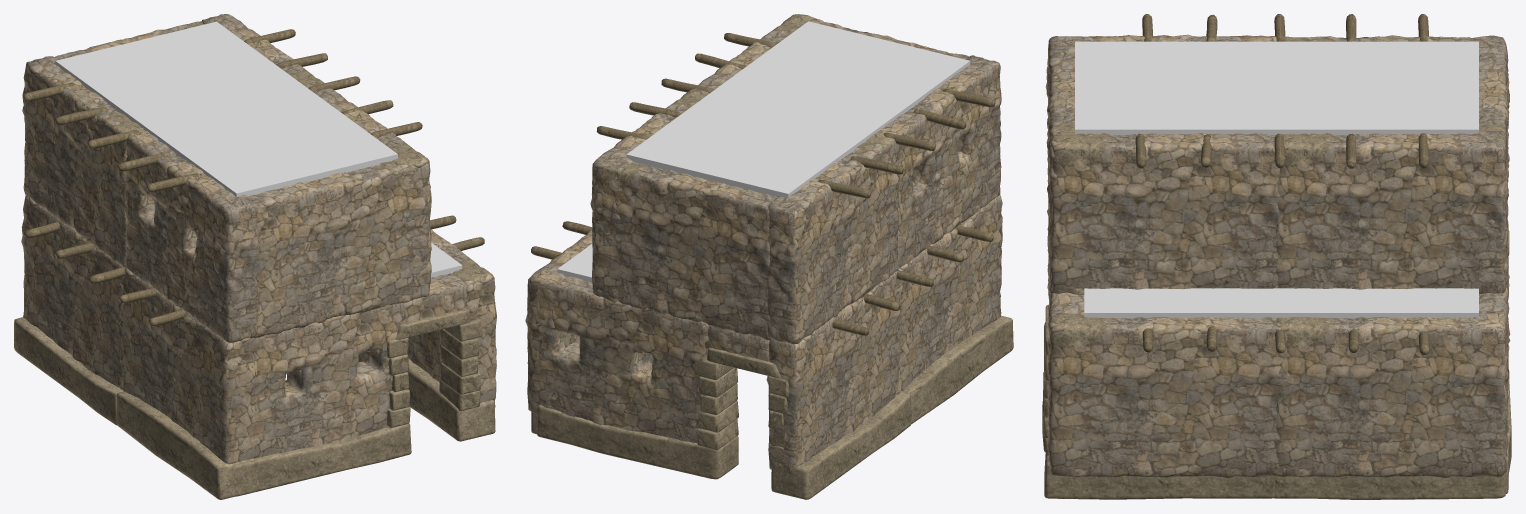
Rendered from CasaAntigua1.fbx.
3 views of the same model, side by side, from view 1: azimuth 30°, elevation 25°; view 2: azimuth 150°, elevation 25°; view 3: azimuth 270°, elevation 25° (orthographic). The views are drawn at different scales.
Visible parts, largest first — view 1: Wall_02_LOD0, Roof_02_LOD0, Blocks_02_LOD0, Poles_02_LOD0; view 2: Wall_02_LOD0, Roof_02_LOD0, Blocks_02_LOD0, Poles_02_LOD0; view 3: Wall_02_LOD0, Roof_02_LOD0, Blocks_02_LOD0, Poles_02_LOD0.
Boxes of the visible parts, x1,y1,x2,y2 form: Wall_02_LOD0: (21,14,496,463); Roof_02_LOD0: (55,21,462,277); Blocks_02_LOD0: (14,309,495,499); Poles_02_LOD0: (23,29,484,326); Wall_02_LOD0: (525,14,1002,474); Roof_02_LOD0: (557,21,970,282); Blocks_02_LOD0: (531,315,1013,499); Poles_02_LOD0: (531,33,995,335); Wall_02_LOD0: (1045,34,1510,477); Roof_02_LOD0: (1075,41,1478,318); Blocks_02_LOD0: (1042,224,1511,499); Poles_02_LOD0: (1135,14,1429,355).
Size of what is drawn, in the model's own units: 708 by 585 by 768.
